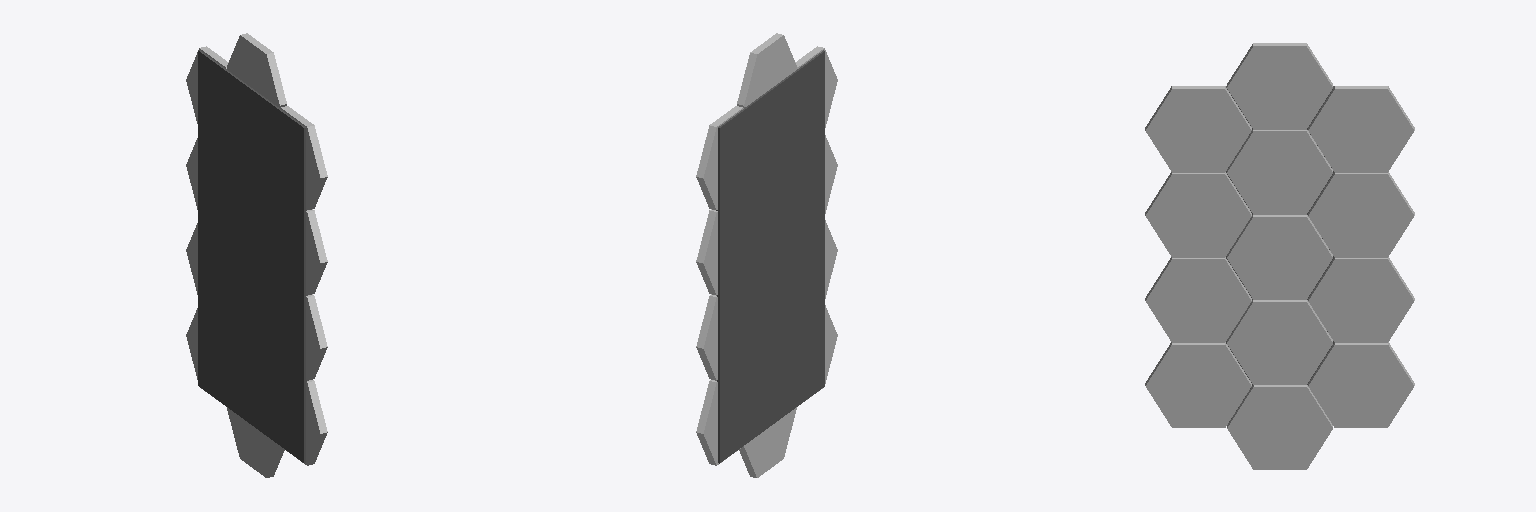
3 renders of one model, left to right at view 1: azimuth 30°, elevation 25°; view 2: azimuth 150°, elevation 25°; view 3: azimuth 270°, elevation 25°, orthographic.
Parts seen in each view (by area): view 1: Cylinder.011_Cylinder.009; view 2: Cylinder.011_Cylinder.009; view 3: Cylinder.011_Cylinder.009.
Part boxes in pixels (left/top/right/bottom): Cylinder.011_Cylinder.009: left=186, top=33, right=327, bottom=477; Cylinder.011_Cylinder.009: left=696, top=33, right=837, bottom=477; Cylinder.011_Cylinder.009: left=1145, top=43, right=1414, bottom=469.
Size of the model in its own units: 0.0451 by 1.99 by 1.14.
Materials: 1 (1 with a texture image).